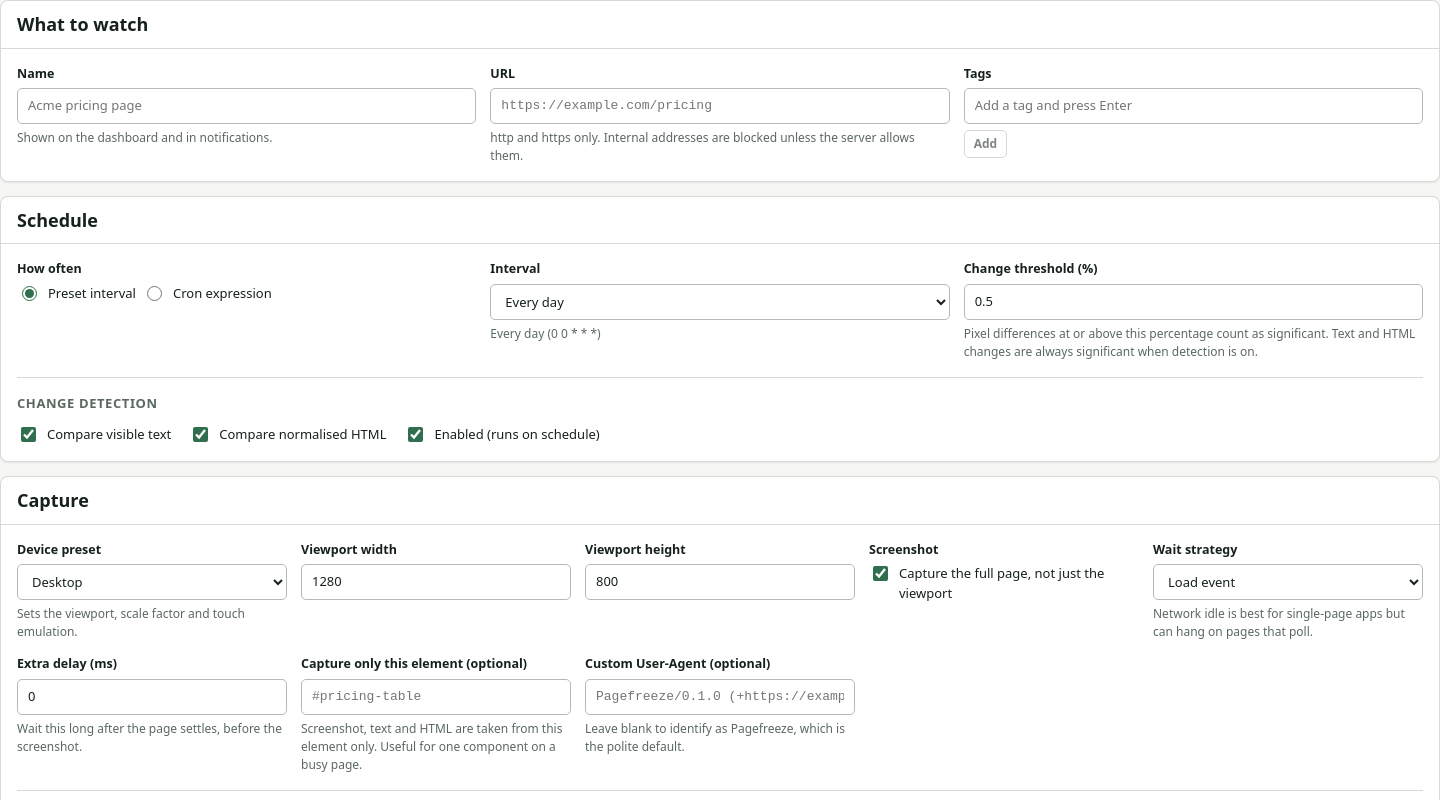
Test: MonitorForm schedule › explains a cron with the wrong number of fields
Click the radio button labelled "Cron expression" at (154, 294), box top-left (147, 286), bottom-right (162, 301)
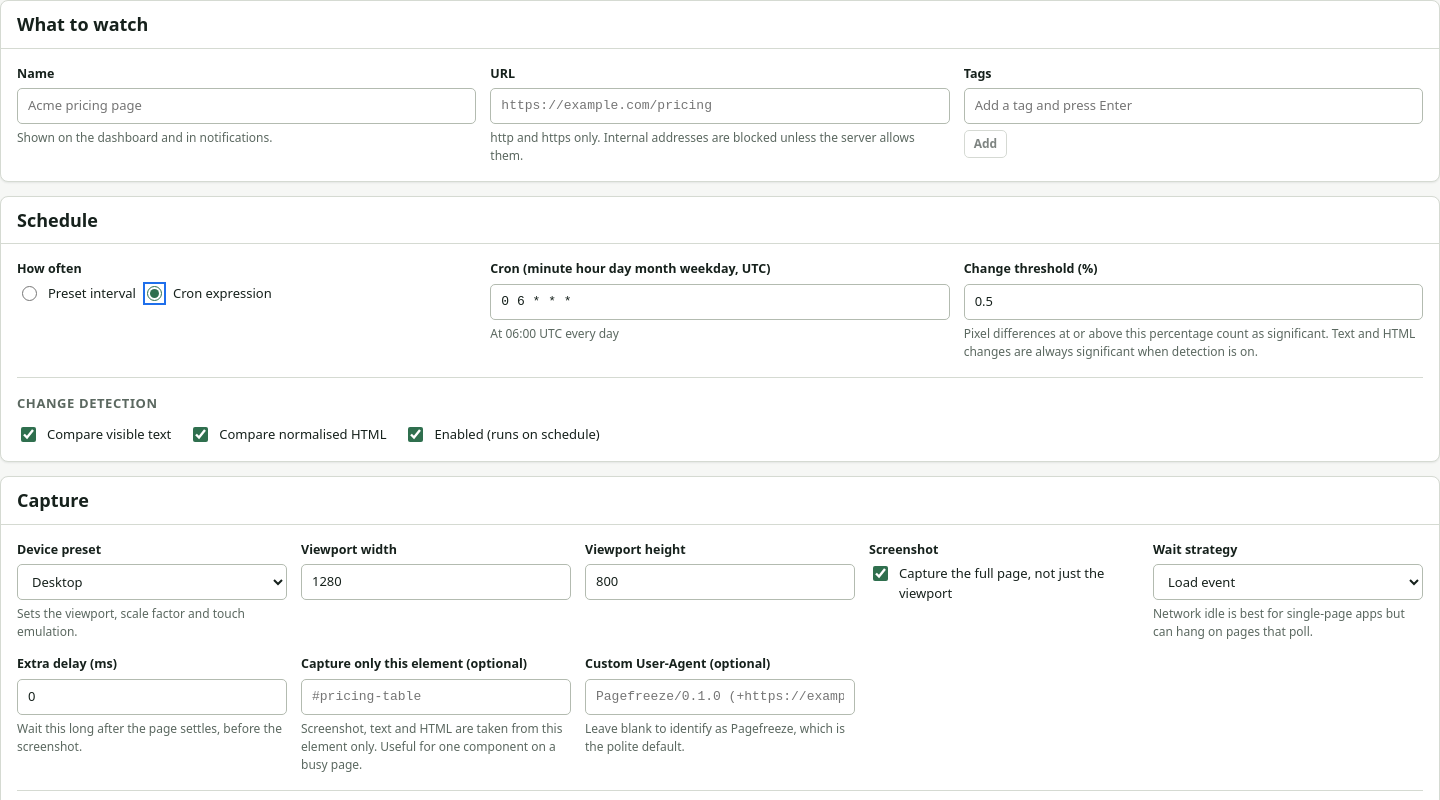
Replace the text in the field labelled "Cron (minute hour day month weekday, UTC)" with "* * *" at (720, 302), box top-left (490, 284), bottom-right (950, 320)
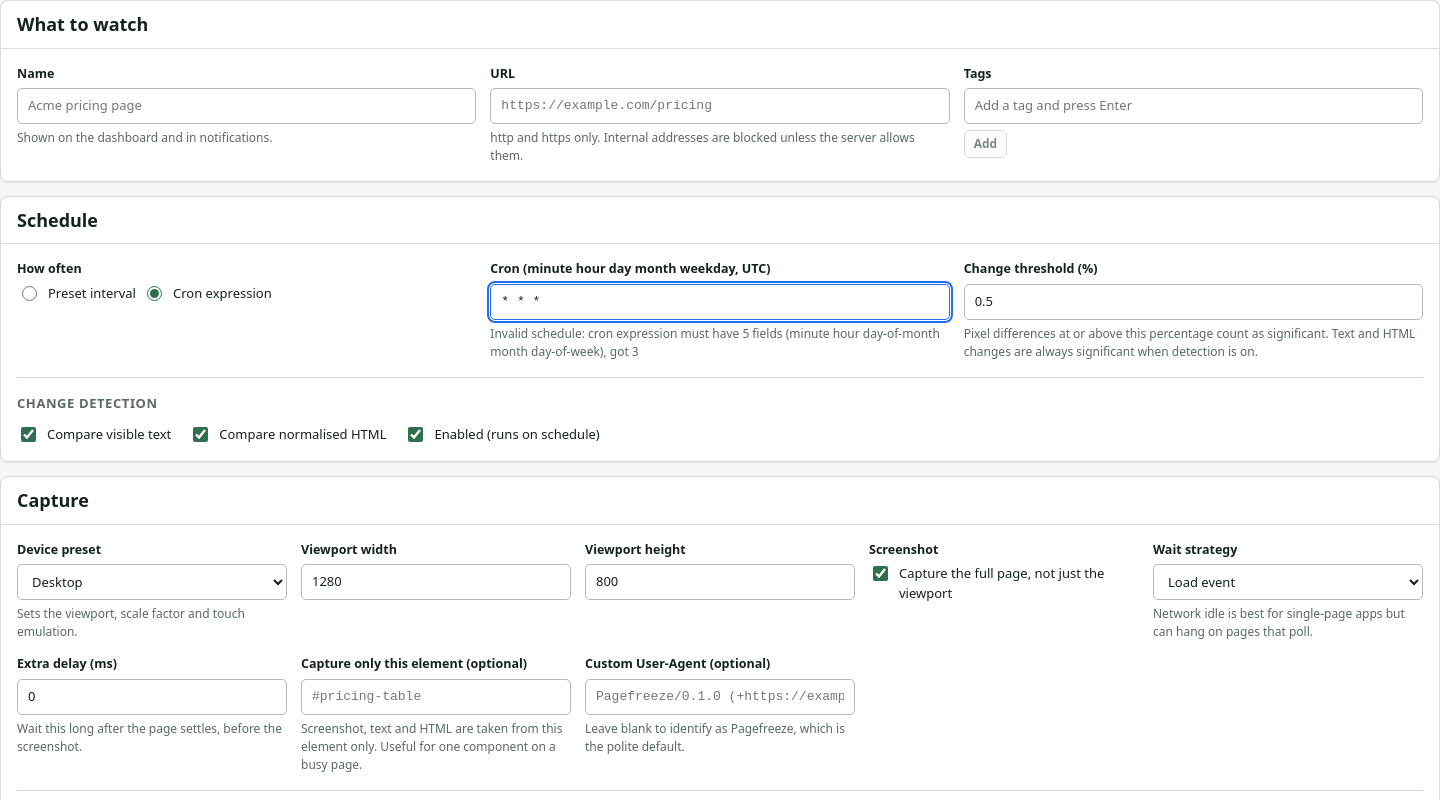
Press Tab
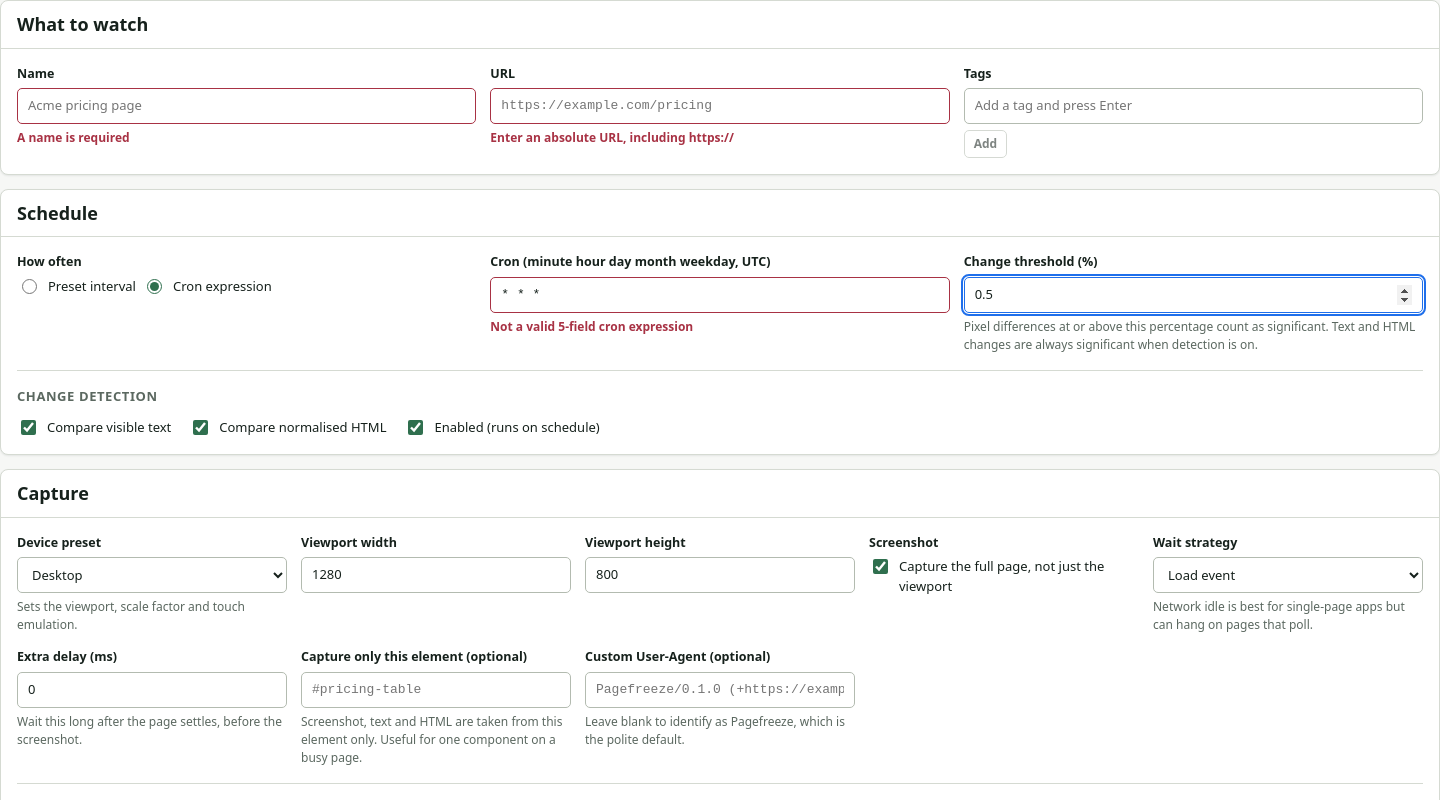
Expected: the text "Not a valid 5-field cron expression" is shown, top-left (490, 318), bottom-right (693, 334)
